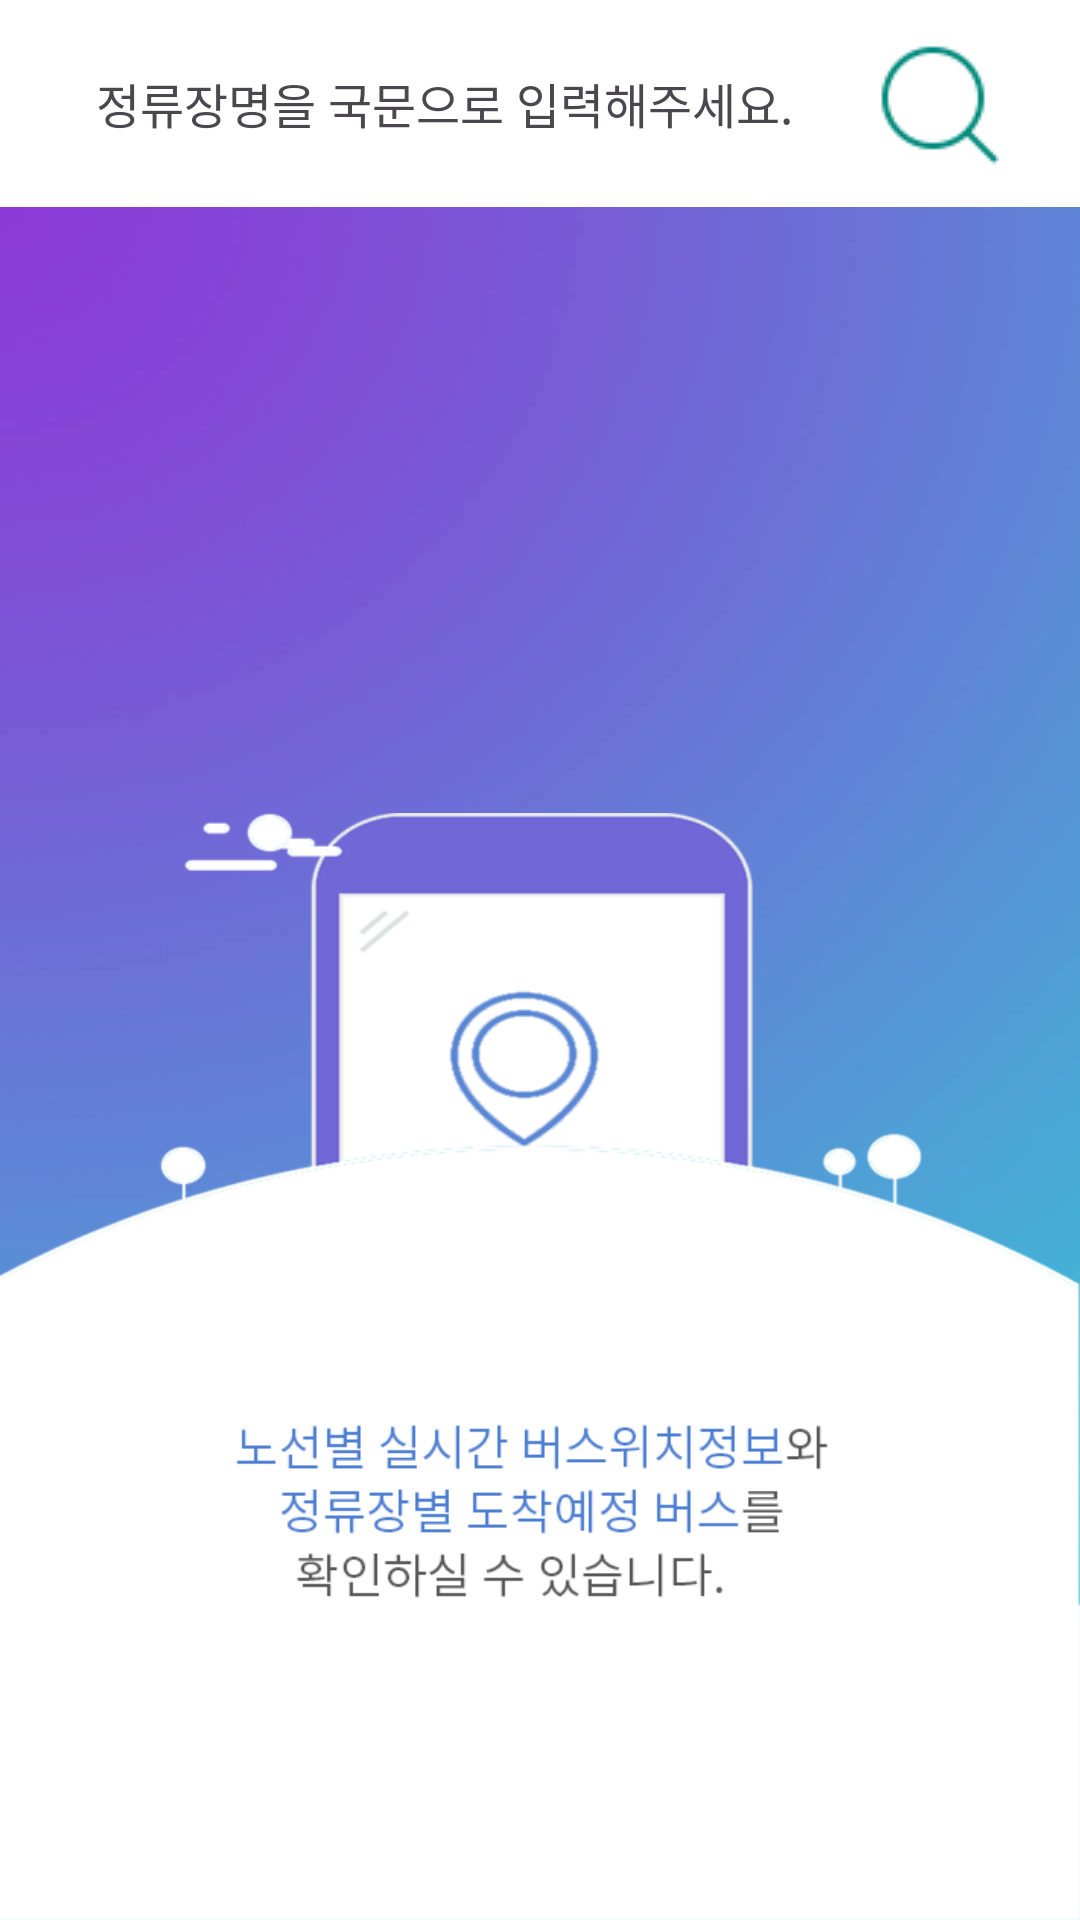

Icon click points for this 1080×1920 phone screenshot, format (x=x, y=y):
magnifier: (x=940, y=105)
